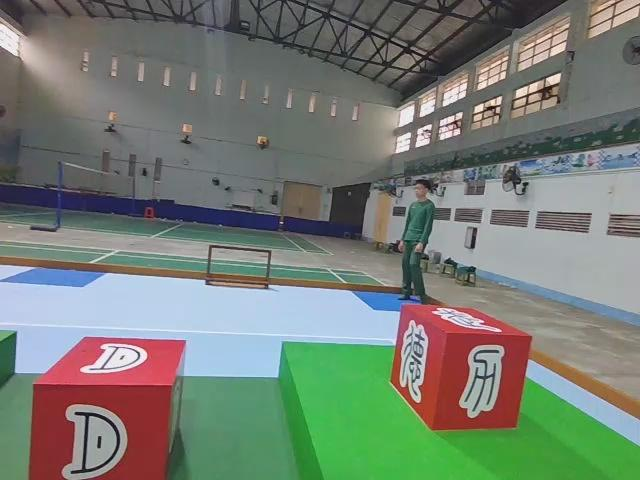R2 Fake: (388, 300, 535, 433)
R2 Real: (27, 333, 189, 480)
